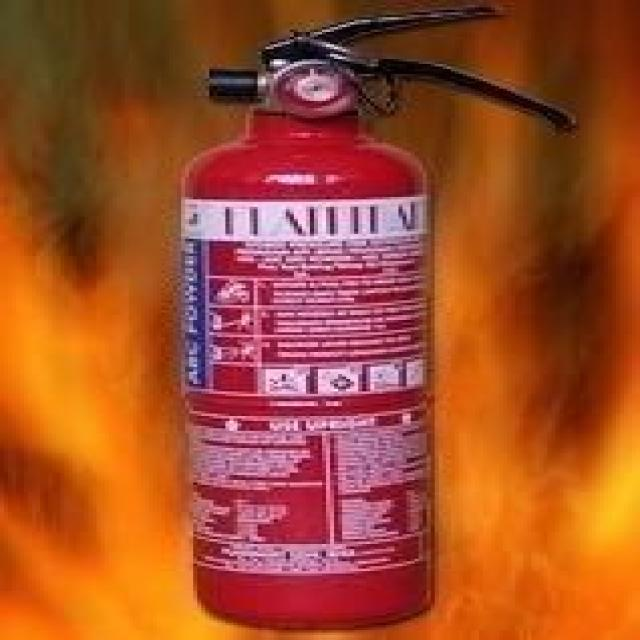fire_extinguisher: (165, 0, 584, 633)
